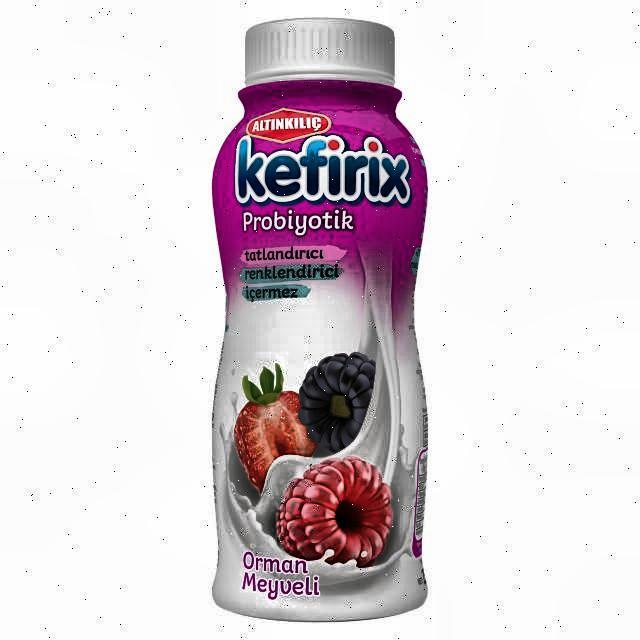plastic: (208, 15, 430, 626)
